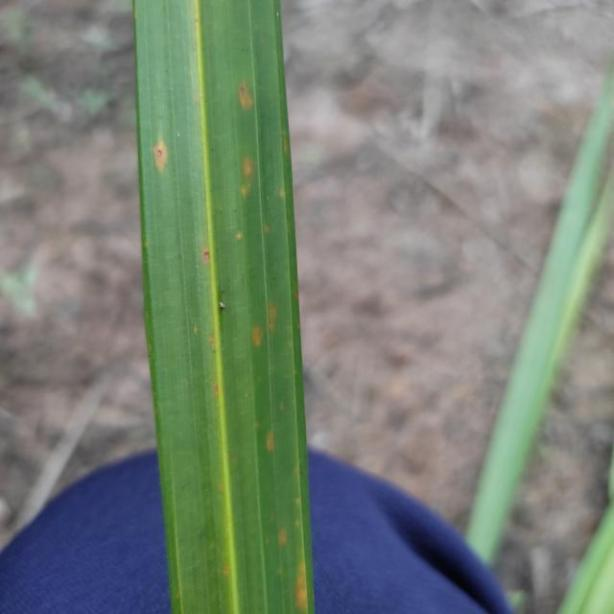Kalium: (133, 0, 312, 614)
